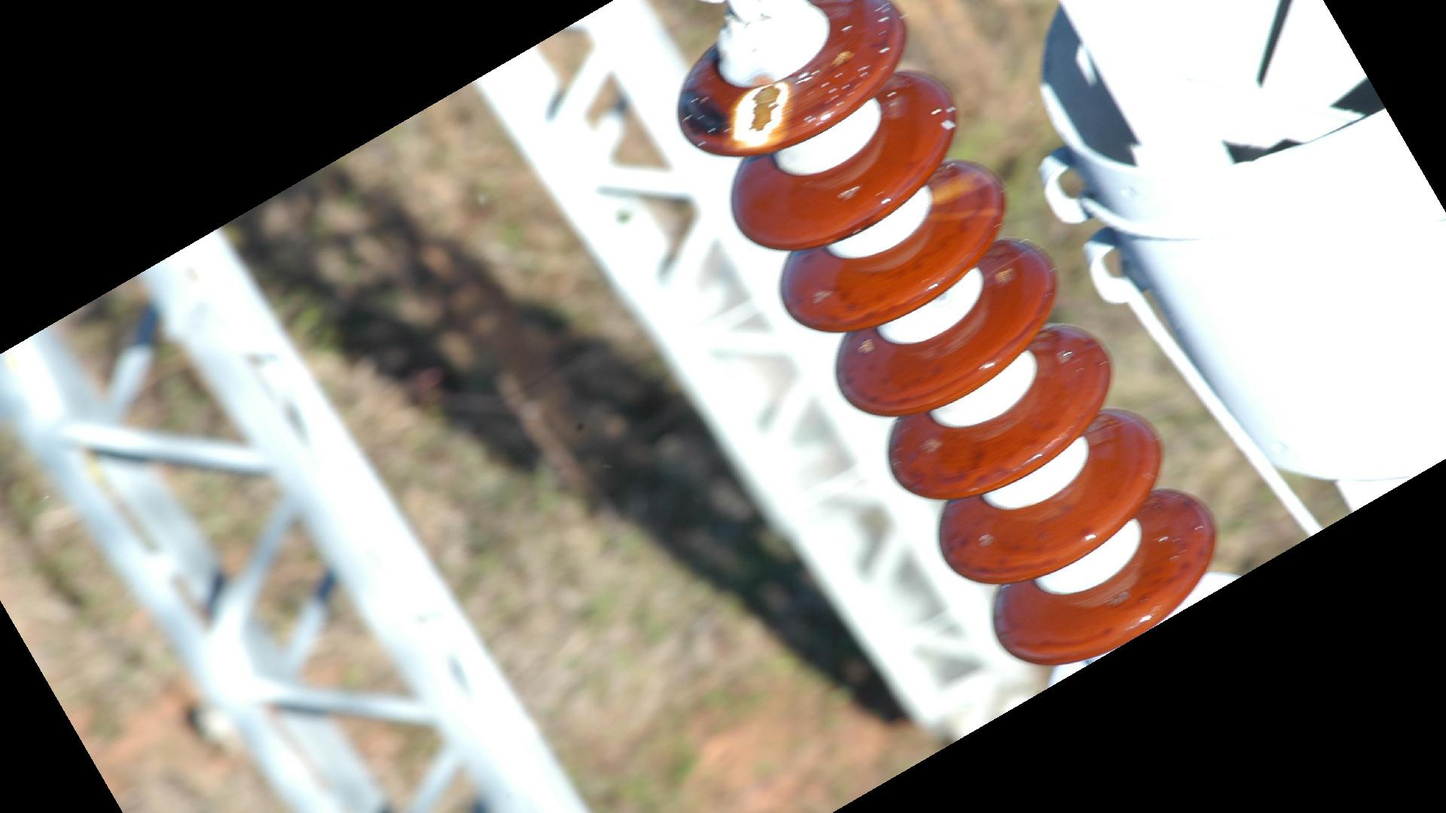insulator: (670, 1, 1223, 671)
insulator_flashover: (728, 78, 794, 153), (926, 163, 994, 206)
